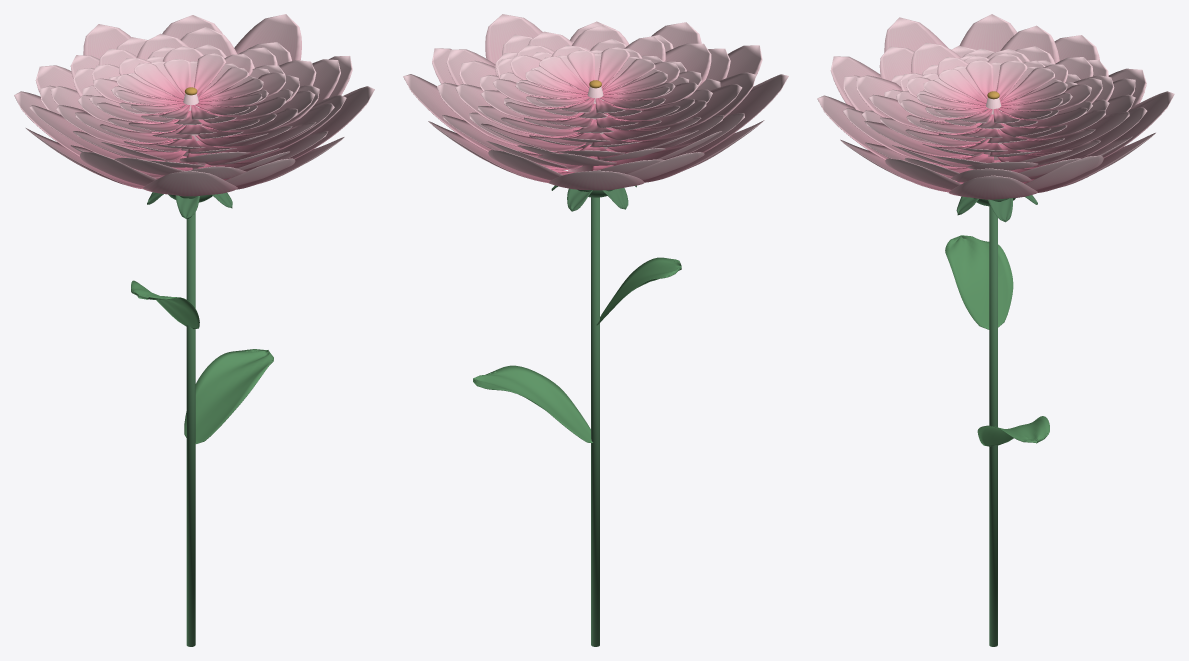
File: peony.glb
3 views of the same model, side by side, from view 1: azimuth 30°, elevation 25°; view 2: azimuth 150°, elevation 25°; view 3: azimuth 270°, elevation 25° (orthographic). The views are drawn at different scales.
Visible parts, largest first — view 1: Leaf_00, Stem, Petal_008, Petal_001, Petal_011, Leaf_01, Petal_013, Petal_007, Petal_003, Petal_005, Petal_020, Petal_022 (+30 smaller); view 2: Stem, Leaf_00, Petal_007, Leaf_01, Petal_004, Petal_011, Petal_001, Petal_040, Petal_003, Petal_038, Petal_021, Petal_008 (+32 smaller); view 3: Leaf_01, Stem, Petal_000, Petal_006, Leaf_00, Petal_007, Petal_009, Petal_003, Petal_001, Petal_013, Petal_032, Petal_011 (+24 smaller).
Boxes of the visible parts, left/top/right/bottom form: Leaf_00: left=184, top=349, right=273, bottom=444; Stem: left=186, top=212, right=195, bottom=646; Petal_008: left=143, top=170, right=237, bottom=196; Petal_001: left=234, top=14, right=301, bottom=60; Petal_011: left=287, top=86, right=374, bottom=159; Leaf_01: left=131, top=280, right=199, bottom=329; Petal_013: left=29, top=105, right=165, bottom=161; Petal_007: left=80, top=152, right=158, bottom=185; Petal_003: left=83, top=24, right=131, bottom=58; Petal_005: left=14, top=91, right=88, bottom=156; Petal_020: left=312, top=59, right=340, bottom=102; Petal_022: left=180, top=27, right=236, bottom=56; Stem: left=591, top=197, right=599, bottom=646; Leaf_00: left=473, top=365, right=592, bottom=442; Petal_007: left=690, top=74, right=788, bottom=153; Leaf_01: left=596, top=257, right=681, bottom=325; Petal_004: left=548, top=170, right=644, bottom=190; Petal_011: left=485, top=14, right=542, bottom=64; Petal_001: left=403, top=74, right=568, bottom=169; Petal_040: left=620, top=43, right=711, bottom=129; Petal_003: left=488, top=150, right=574, bottom=180; Petal_038: left=624, top=84, right=742, bottom=140; Petal_021: left=437, top=82, right=573, bottom=151; Petal_008: left=726, top=45, right=762, bottom=77; Leaf_01: left=945, top=235, right=1013, bottom=329; Stem: left=989, top=206, right=997, bottom=646; Petal_000: left=948, top=175, right=1038, bottom=199; Petal_006: left=959, top=14, right=1017, bottom=52; Leaf_00: left=977, top=416, right=1049, bottom=446; Petal_007: left=884, top=17, right=947, bottom=52; Petal_009: left=817, top=95, right=889, bottom=160; Petal_003: left=1102, top=91, right=1174, bottom=158; Petal_001: left=1022, top=155, right=1103, bottom=189; Petal_013: left=1000, top=25, right=1059, bottom=63; Petal_032: left=1016, top=112, right=1129, bottom=153; Petal_011: left=885, top=158, right=963, bottom=189.
Size of the model in its own units: 0.2032 by 0.3382 by 0.1964.
6 materials, 3 textured.
